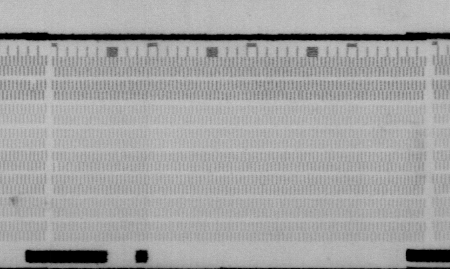Oblique printing: (28, 78, 38, 92)
